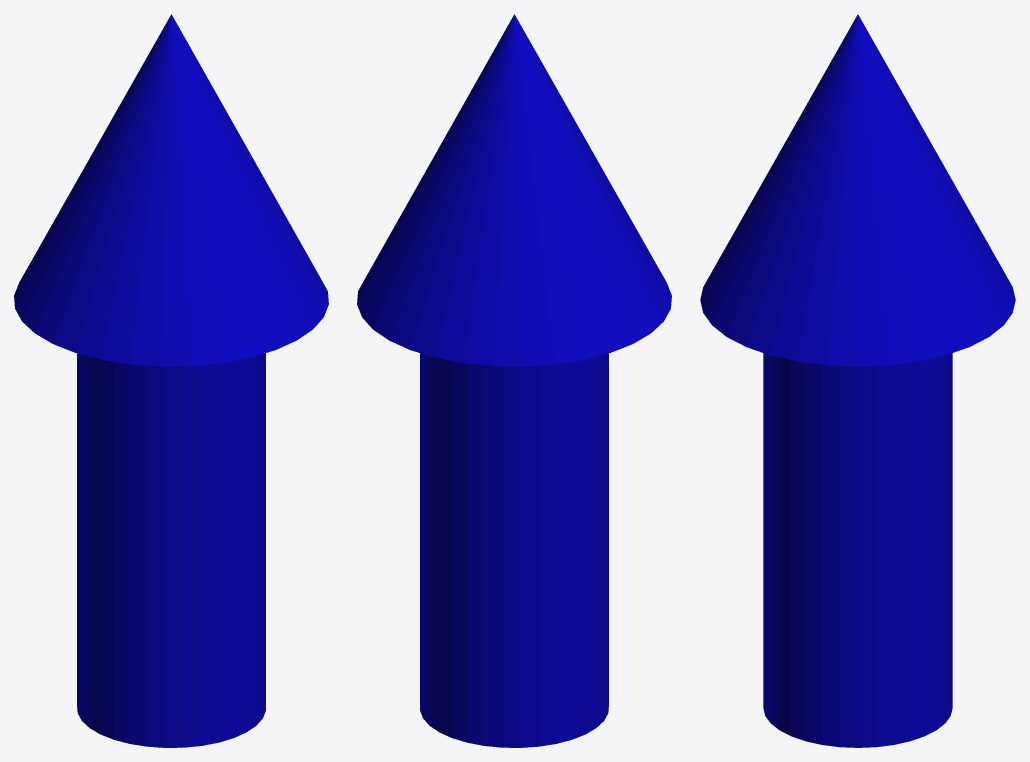
The model's file is arrow.obj.
3 views of the same model, side by side, from view 1: azimuth 30°, elevation 25°; view 2: azimuth 150°, elevation 25°; view 3: azimuth 270°, elevation 25° (orthographic).
Parts seen in each view (by area): view 1: Cone; view 2: Cone; view 3: Cone.
Boxes of the visible parts, <box> form: Cone: <box>14,14,328,747</box>; Cone: <box>357,14,671,747</box>; Cone: <box>700,14,1015,747</box>.
Bounding box in the file's own units: 2 × 4.85 × 2.
